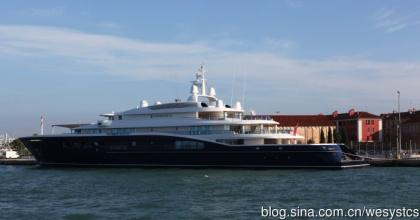yacht: (18, 83, 349, 168)
